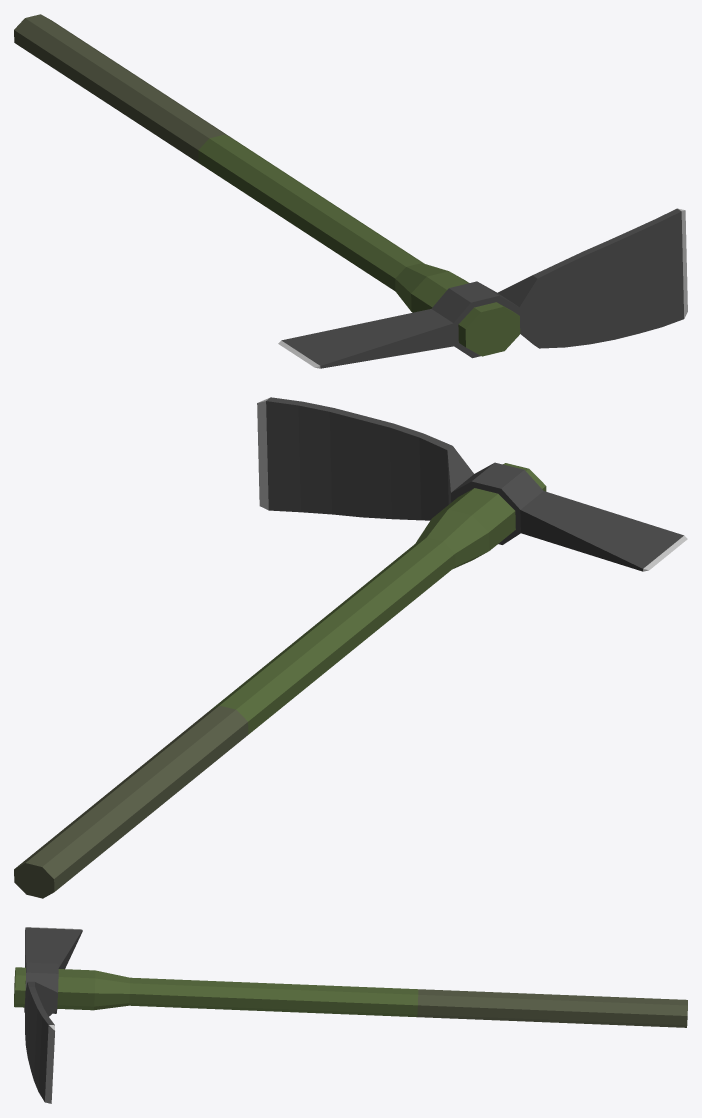
File: WorldItem_ArmyMattock.fbx
3 renders of one model, top to bottom at view 1: azimuth 30°, elevation 25°; view 2: azimuth 150°, elevation 25°; view 3: azimuth 270°, elevation 25°, orthographic. The views are drawn at different scales.
Parts seen in each view (by area): view 1: ZomboidArmyMattock; view 2: ZomboidArmyMattock; view 3: ZomboidArmyMattock.
Boxes of the visible parts, x1,y1,x2,y2 form: ZomboidArmyMattock: (14,14,687,368); ZomboidArmyMattock: (14,397,687,898); ZomboidArmyMattock: (14,927,687,1103).
Bounding box in the file's own units: 0.3296 × 0.0858 × 0.6739.
